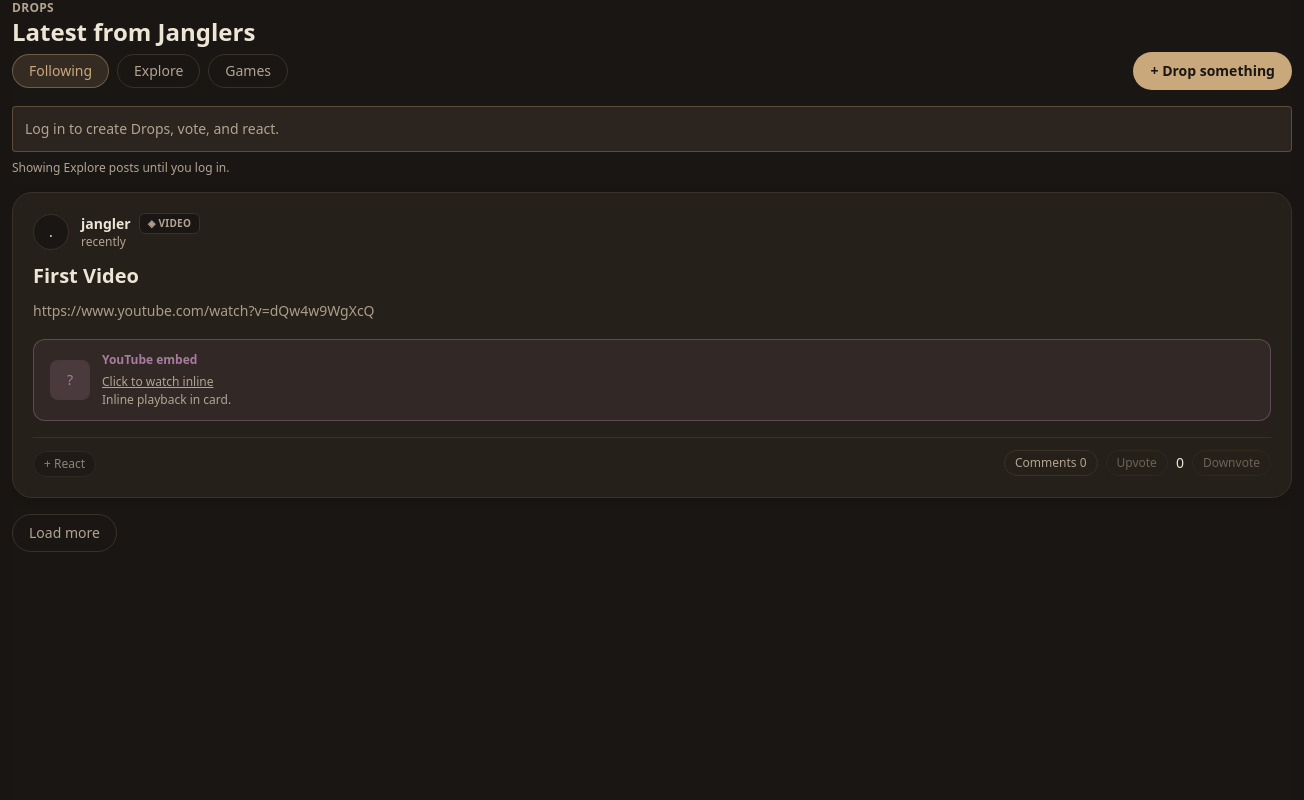
Test: FeedPage › keeps media action states stable after load more rerender
(page scrolled)
Expected: the link "First Video" is shown, [33,262,139,289]
Click the button "Load more". click: (64, 533)
box: [12,514,117,552]
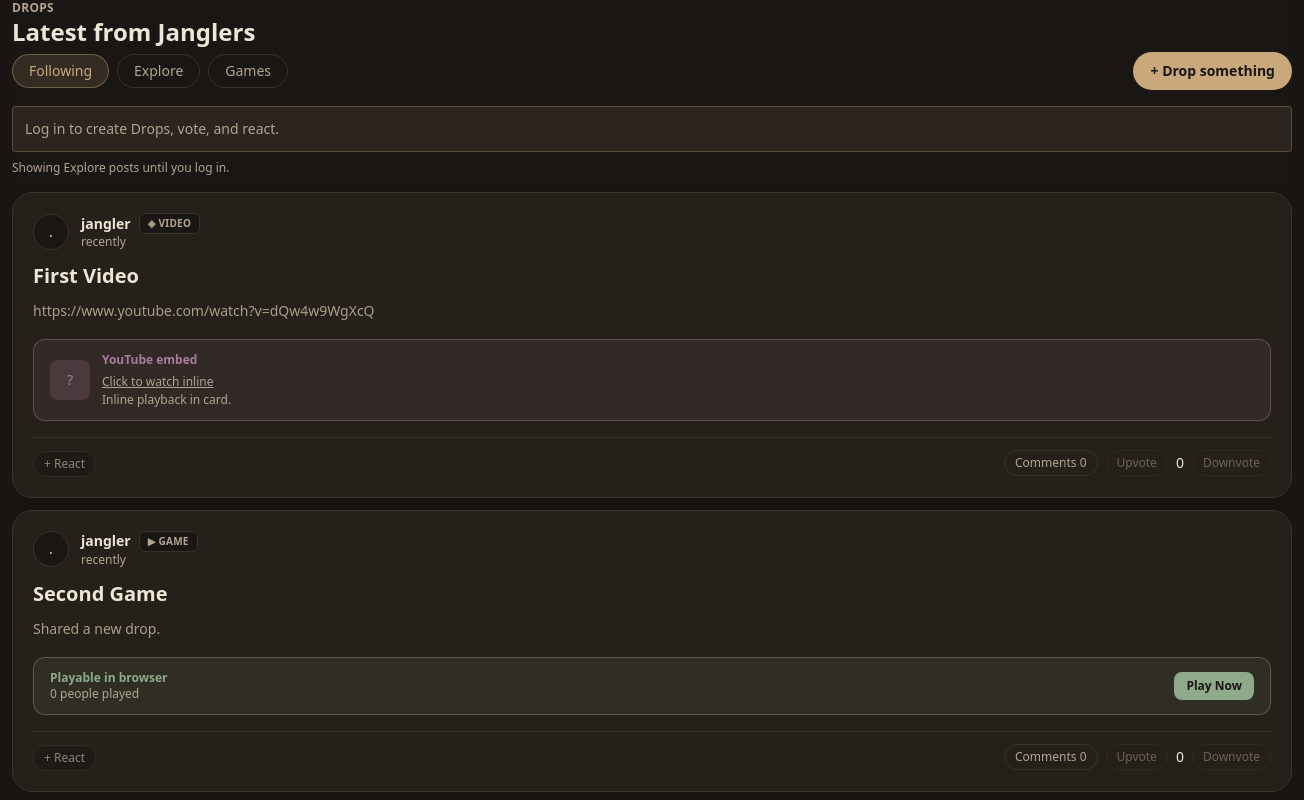
Expected: the link "Second Game" is shown, [33,580,168,607]
Expected: the button "Play Now" is enabled, [1174,672,1254,700]
Expected: the number of buttons "Comments 0" is 2
